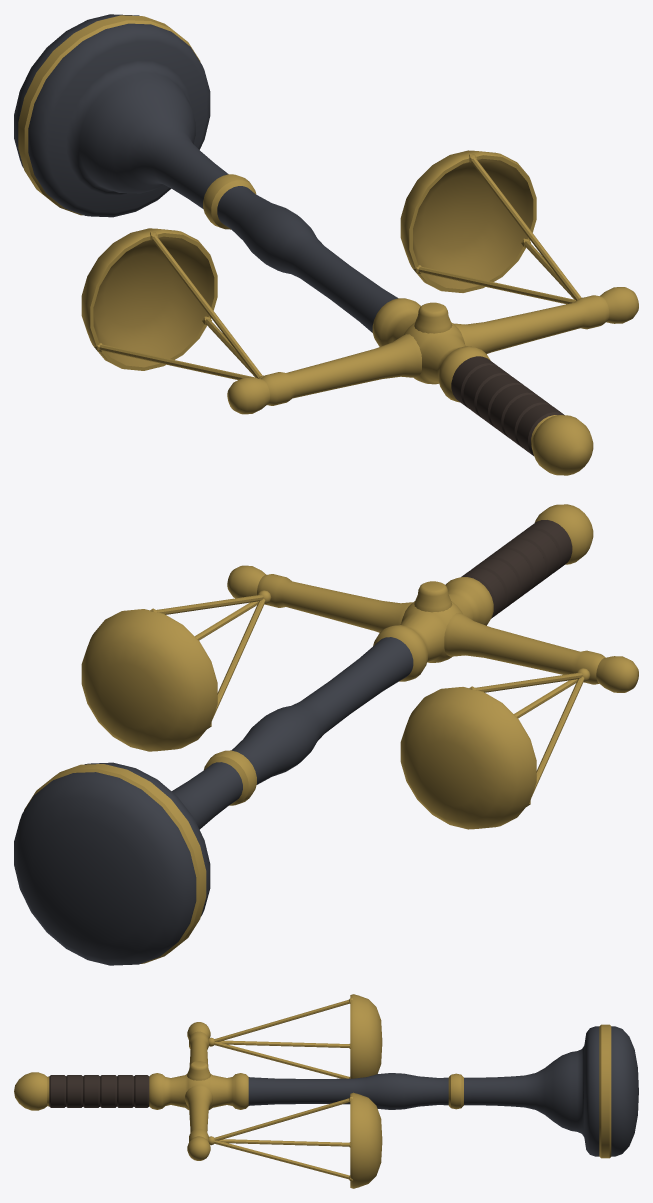
File: w_scales.glb
3 views of the same model, one above another, from view 1: azimuth 30°, elevation 25°; view 2: azimuth 150°, elevation 25°; view 3: azimuth 270°, elevation 25° (orthographic). The views are drawn at different scales.
Parts seen in each view (by area): view 1: column_wzA, pan_wzB, beam_wzB, collar_wzN, pan_wzB.001, pan_wzN, handle_wzB; view 2: column_wzA, pan_wzB.001, beam_wzB, collar_wzN, handle_wzB, pan_wzN; view 3: column_wzA, collar_wzN, pan_wzB.001, pan_wzN, handle_wzB, beam_wzB.
Boxes of the visible parts, x1,y1,x2,y2 form: column_wzA: (14,14,397,332); pan_wzB: (93,158,533,367); beam_wzB: (227,287,638,414); collar_wzN: (18,15,593,475); pan_wzB.001: (81,150,536,370); pan_wzN: (94,154,582,379); handle_wzB: (451,356,564,455); column_wzA: (14,637,413,965); pan_wzB.001: (81,609,536,829); beam_wzB: (227,565,638,692); collar_wzN: (24,504,593,963); handle_wzB: (461,520,572,618); pan_wzN: (149,590,590,806); column_wzA: (248,1026,638,1156); collar_wzN: (14,1024,611,1158); pan_wzB.001: (350,994,382,1188); pan_wzN: (208,998,353,1180); handle_wzB: (49,1075,149,1107); beam_wzB: (185,1022,212,1160).
Bounding box in the file's own units: 0.4448 × 0.1798 × 0.8465.
